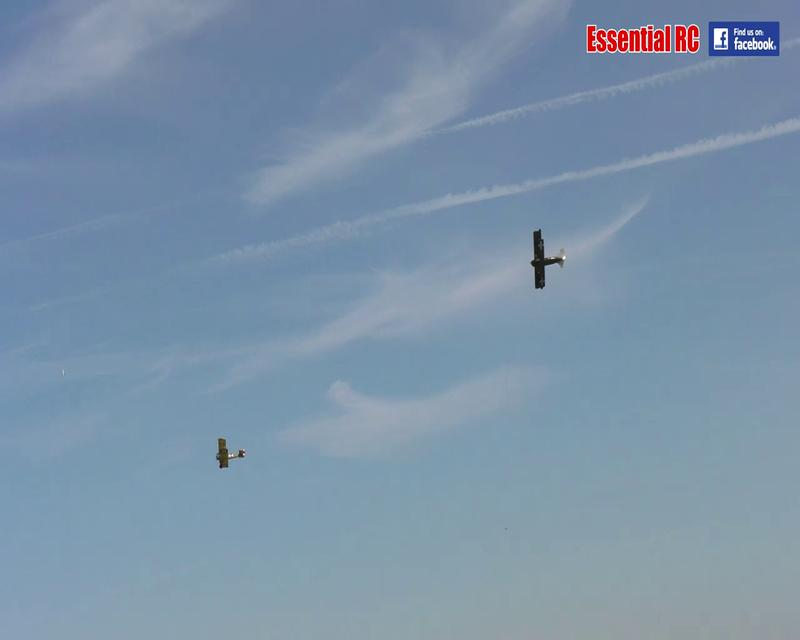UAV: (530, 225, 568, 290), (214, 434, 247, 472)
